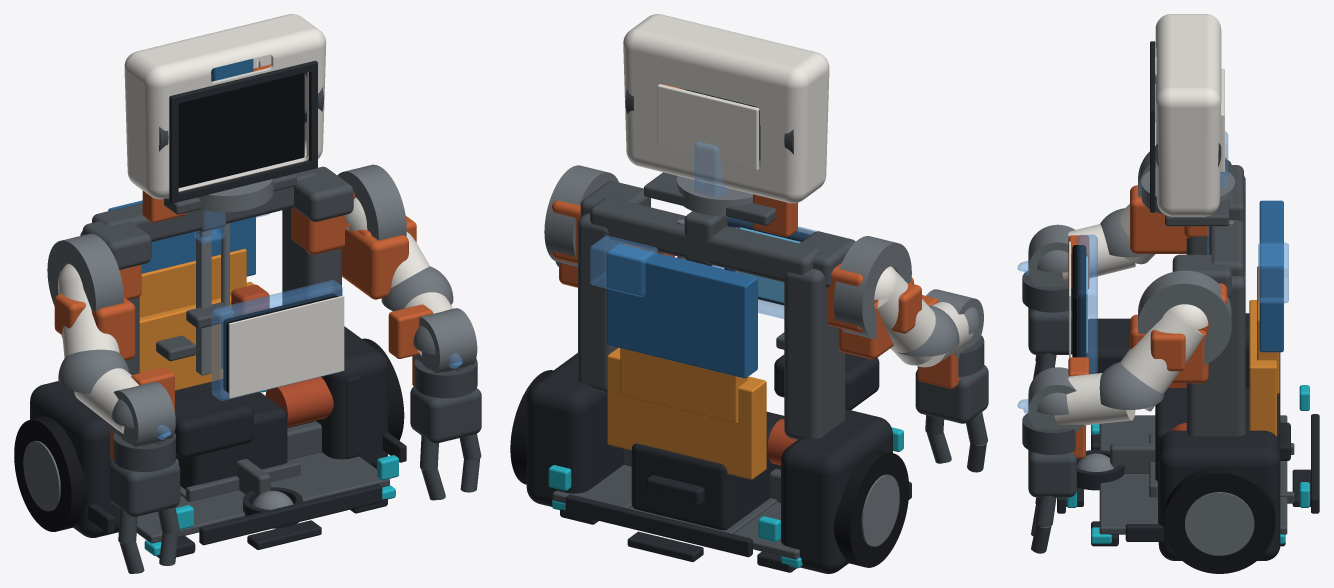
The model's file is ZI-E_v1_1_CUTAWAY.gltf.
3 renders of one model, left to right at view 1: azimuth 30°, elevation 25°; view 2: azimuth 150°, elevation 25°; view 3: azimuth 270°, elevation 25°, orthographic. The views are drawn at different scales.
Visible parts, largest first — view 1: head_shell, display_3p5_ILI9488_env, belly_deadfront_window, lower_chassis, shoulder_tower_1, wheel_1_fairing, wheel_-1_fairing, battery_cassette, head_bezel, wheel_-1_tire, speaker_chamber, power_distribution_board_env (+46 smaller); view 2: head_shell, main_multimedia_board_env, shoulder_tower_-1, wheel_-1_fairing, power_distribution_board_env, wheel_1_fairing, battery_cassette, rear_bridge, head_rear_hatch, shoulder_tower_1, safety_motion_board_env, wheel_-1_tire (+27 smaller); view 3: head_shell, shoulder_tower_1, wheel_1_fairing, lower_chassis, wheel_1_tire, arm_1_pod, main_multimedia_board_env, wheel_1_hub, arm_1_upper, belly_matrix_future_keepout, power_distribution_board_env, arm_-1_shoulder_servo_2 (+36 smaller).
Boxes of the visible parts, <box> form: head_shell: <box>124,14,326,199</box>; display_3p5_ILI9488_env: <box>178,73,304,187</box>; belly_deadfront_window: <box>228,295,344,398</box>; lower_chassis: <box>136,421,389,543</box>; shoulder_tower_1: <box>282,166,353,304</box>; wheel_1_fairing: <box>288,326,388,468</box>; wheel_-1_fairing: <box>30,381,119,537</box>; battery_cassette: <box>175,379,287,489</box>; head_bezel: <box>169,60,317,203</box>; wheel_-1_tire: <box>14,416,87,531</box>; speaker_chamber: <box>175,387,253,458</box>; power_distribution_board_env: <box>139,281,254,390</box>; head_shell: <box>623,14,829,203</box>; main_multimedia_board_env: <box>606,244,757,378</box>; shoulder_tower_-1: <box>784,231,855,439</box>; wheel_-1_fairing: <box>781,409,892,573</box>; power_distribution_board_env: <box>607,347,766,479</box>; wheel_1_fairing: <box>526,353,623,506</box>; battery_cassette: <box>631,414,784,530</box>; rear_bridge: <box>590,197,819,282</box>; head_rear_hatch: <box>657,84,759,170</box>; shoulder_tower_1: <box>578,181,650,392</box>; safety_motion_board_env: <box>620,348,747,423</box>; wheel_-1_tire: <box>833,450,909,567</box>; head_shell: <box>1155,14,1221,216</box>; shoulder_tower_1: <box>1172,254,1245,436</box>; wheel_1_fairing: <box>1158,430,1280,560</box>; lower_chassis: <box>1099,415,1287,534</box>; wheel_1_tire: <box>1164,467,1275,573</box>; arm_1_pod: <box>1138,270,1231,364</box>; main_multimedia_board_env: <box>1259,200,1283,352</box>; wheel_1_hub: <box>1185,492,1254,555</box>; arm_1_upper: <box>1120,304,1208,411</box>; belly_matrix_future_keepout: <box>1077,234,1097,373</box>; power_distribution_board_env: <box>1249,300,1276,436</box>; arm_-1_shoulder_servo_2: <box>1130,185,1186,253</box>.
Bounding box in the file's own units: 248 × 282 × 174.
